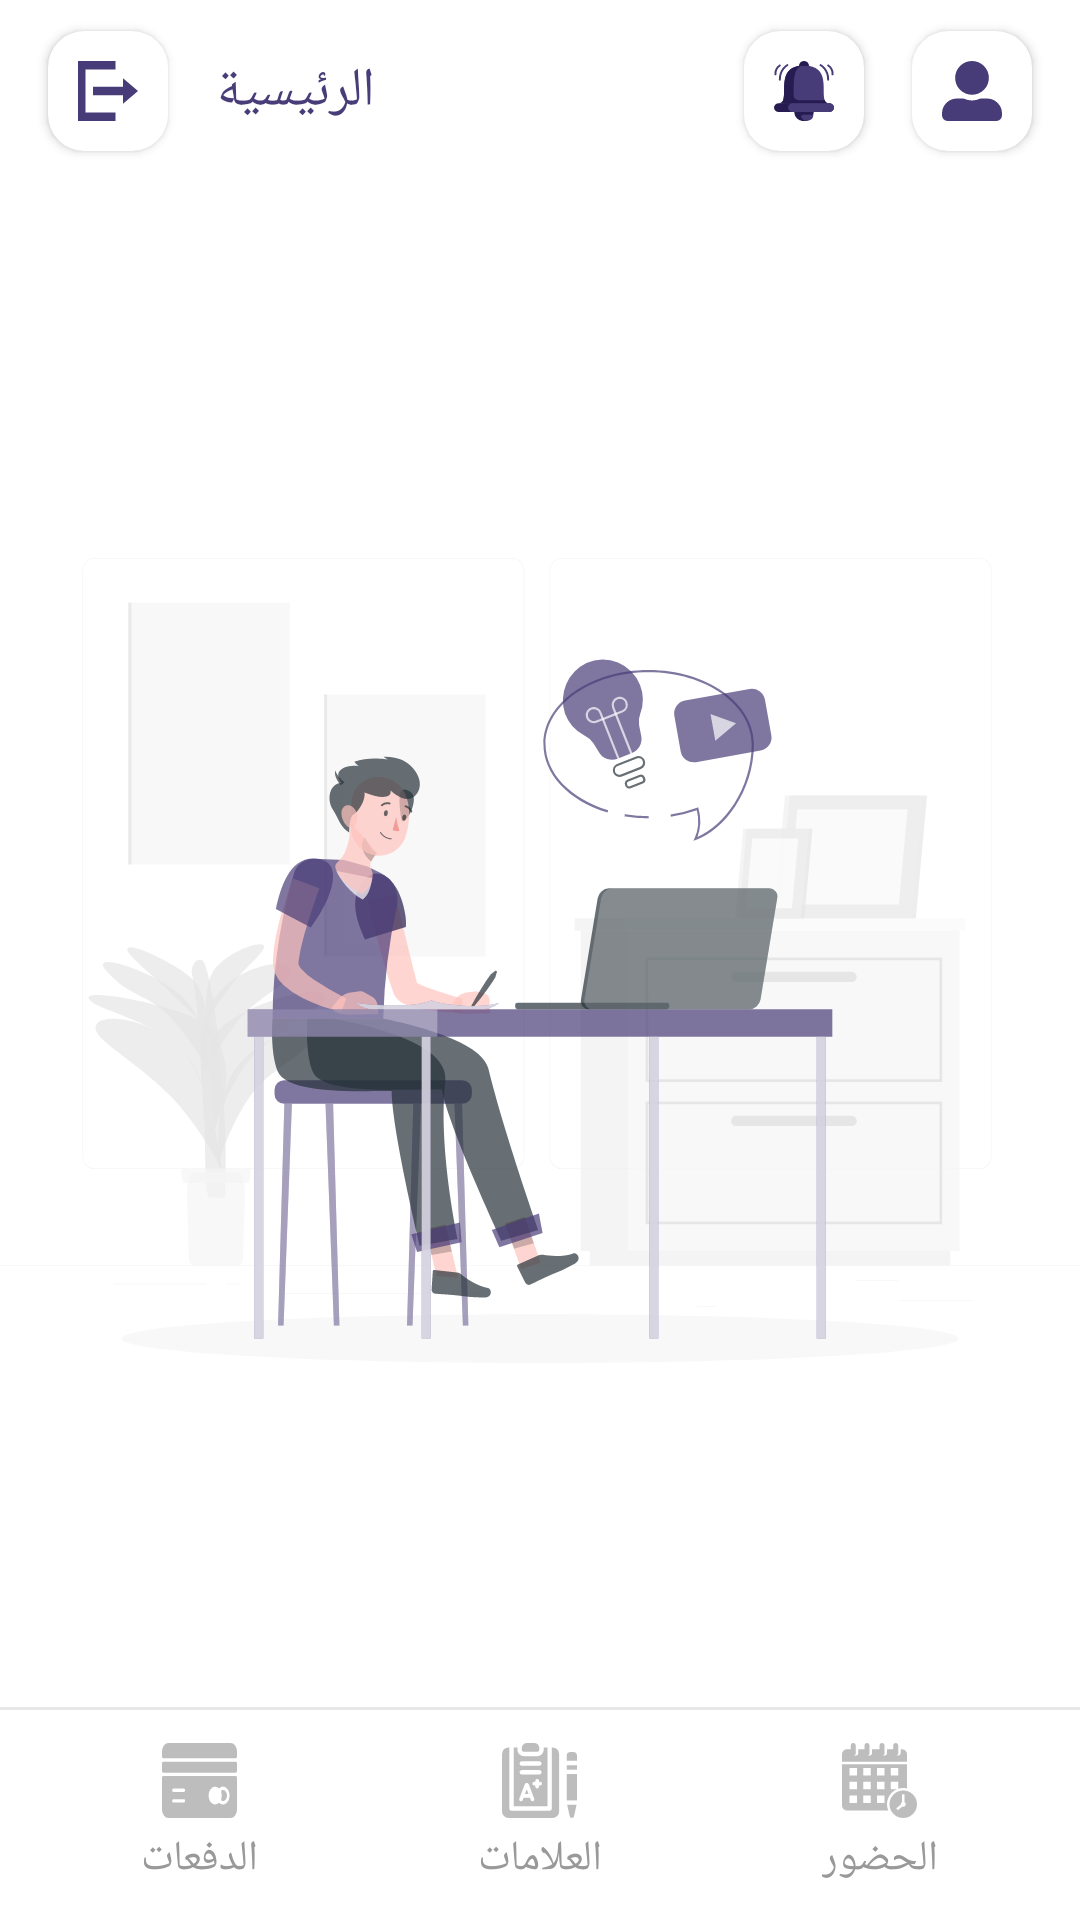

Locate icon controls on the screen. Image size 1080 × 1920, boxes as (x1, y1, x2, y2).
calendar: (842, 1743, 917, 1818)
credit card: (162, 1743, 237, 1818)
notification: (774, 61, 834, 121)
profile: (942, 61, 1002, 121)
